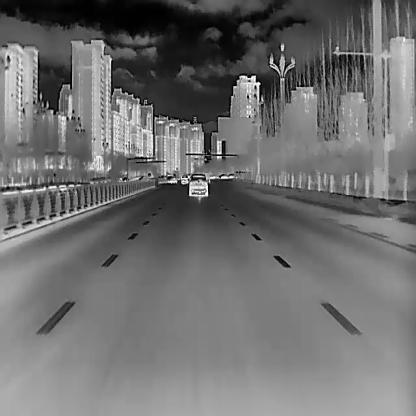car: (187, 171, 208, 196), (180, 174, 189, 184), (170, 175, 177, 184), (217, 172, 226, 179), (226, 172, 234, 179)
